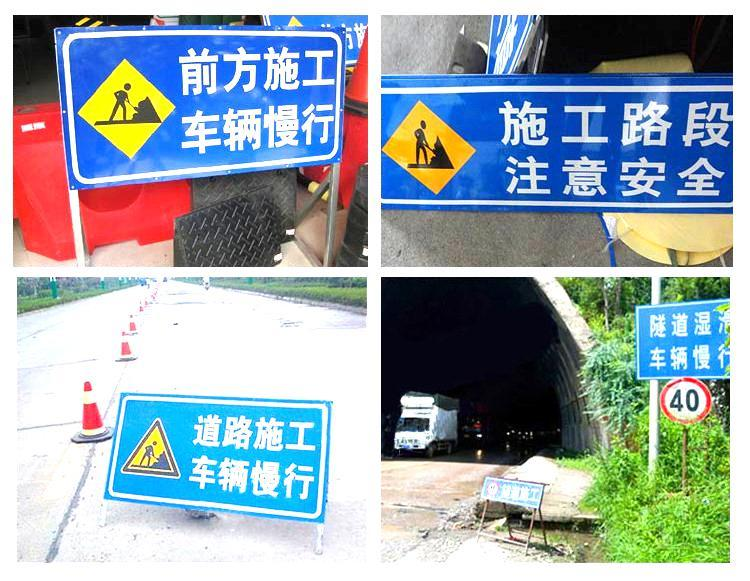sign: (382, 77, 735, 215), (60, 28, 339, 165), (115, 396, 329, 524), (482, 478, 547, 508)
